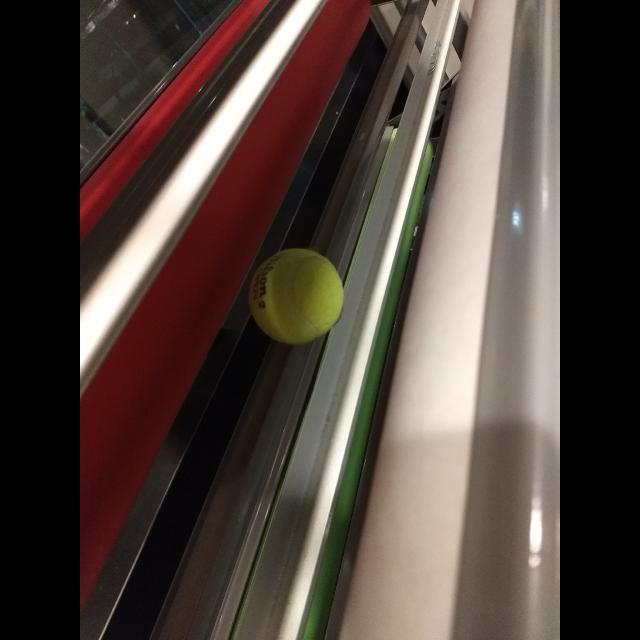tennis-ball: (245, 245, 347, 347)
